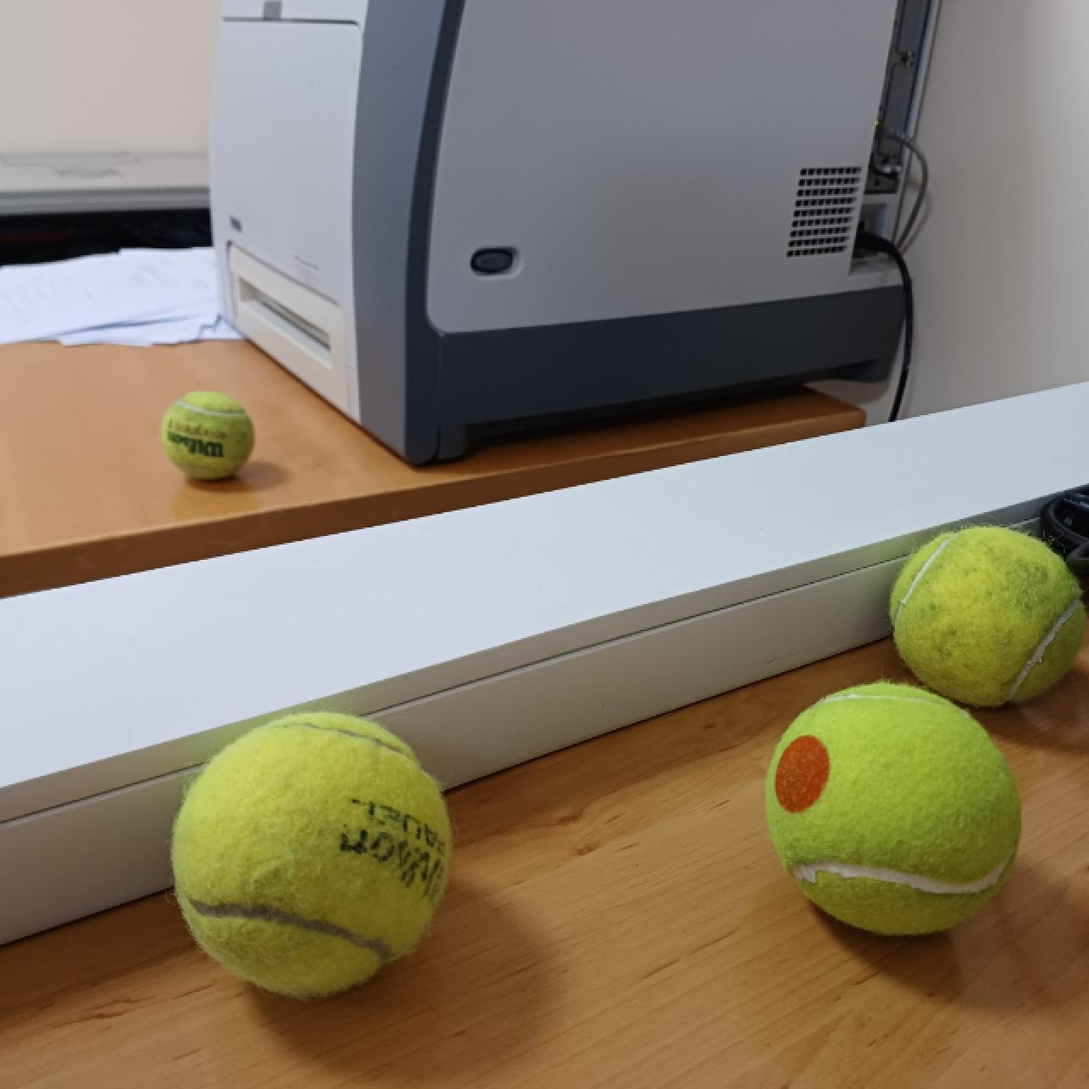tennis-ball: (172, 711, 452, 996), (763, 679, 1020, 937), (887, 524, 1089, 708), (162, 388, 255, 481)
